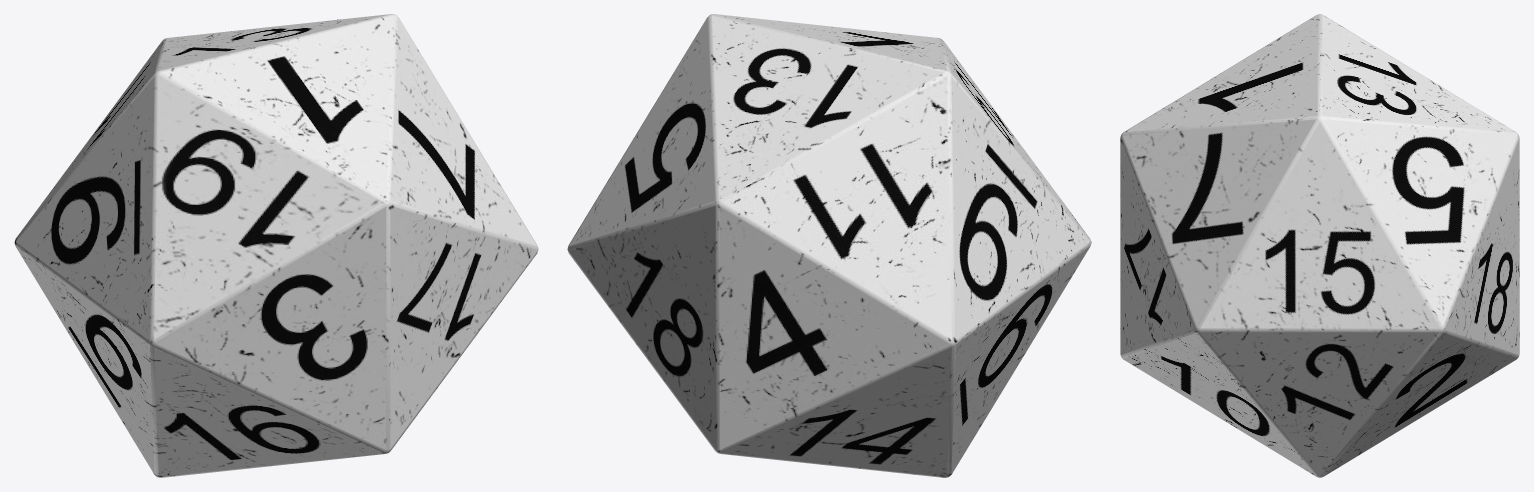
3 renders of one model, left to right at view 1: azimuth 30°, elevation 25°; view 2: azimuth 150°, elevation 25°; view 3: azimuth 270°, elevation 25°, orthographic. The views are drawn at different scales.
Parts seen in each view (by area): view 1: icosahedron:icosahedron; view 2: icosahedron:icosahedron; view 3: icosahedron:icosahedron.
Boxes of the visible parts, box(x1,y1,x2,y2) form: icosahedron:icosahedron: box(14, 14, 538, 477); icosahedron:icosahedron: box(567, 14, 1091, 477); icosahedron:icosahedron: box(1120, 14, 1519, 477).
Size of the model in its own units: 3.15 by 3.15 by 3.15.
